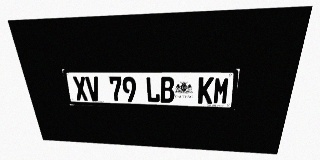7: (108, 76, 124, 102)
9: (122, 77, 137, 102)
B: (160, 77, 174, 103)
K: (198, 77, 214, 104)
L: (145, 77, 160, 103)
M: (213, 77, 230, 104)
V: (85, 76, 101, 101)
X: (72, 76, 89, 101)
